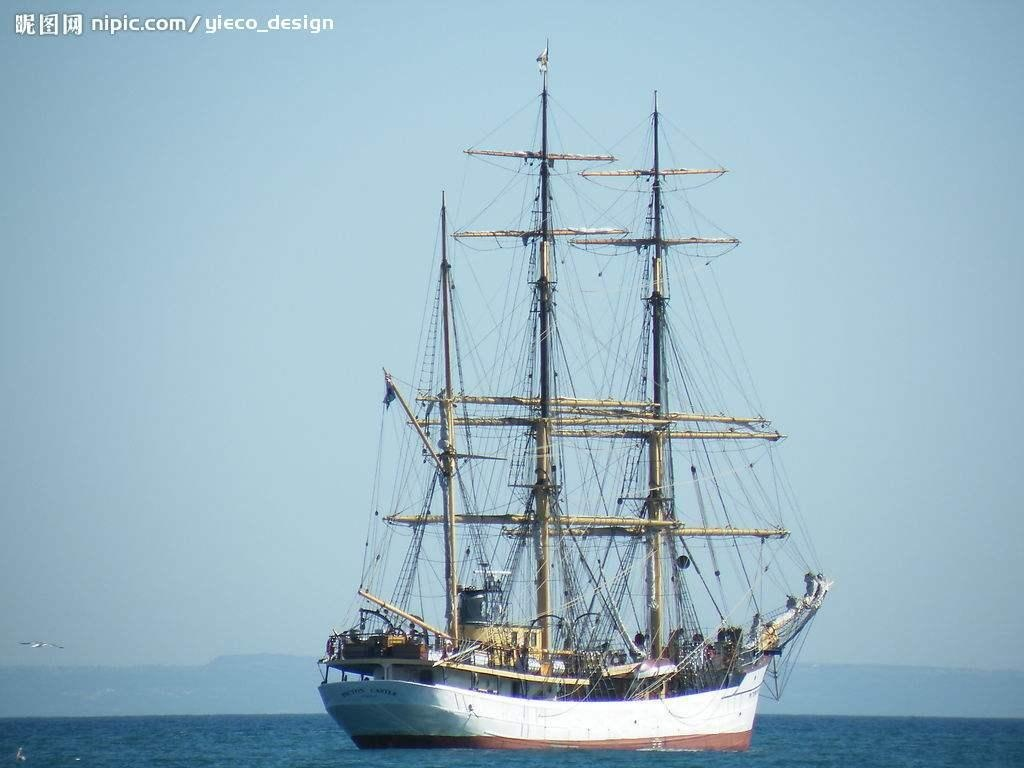fanchuan: (316, 25, 834, 756)
